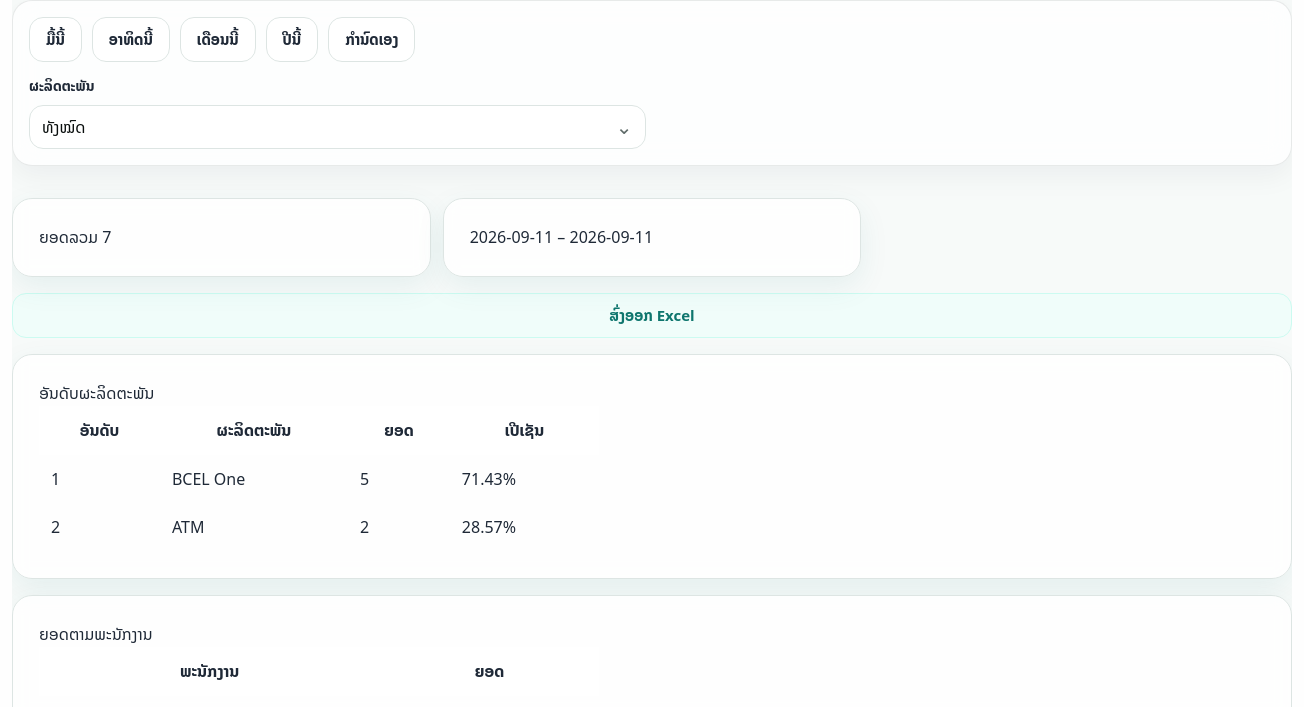
Test case: SalesReportPanel › queries preset ranges and renders Monday-Sunday labels, totals, and ranking
Click the button "ອາທິດນີ້": (131, 40) [92,17,170,62]
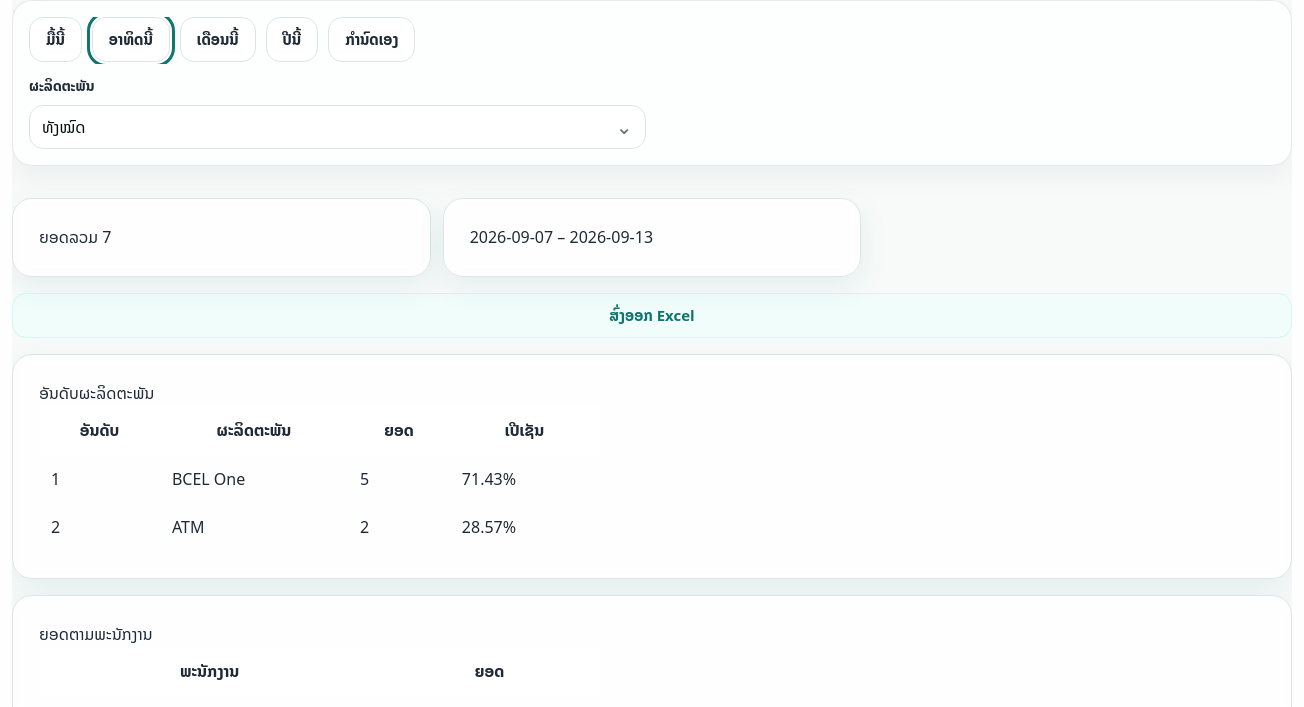
Expected: the text "ຍອດລວມ 7" is shown, [39,224,112,250]
Now the text "2026-09-07 – 2026-09-13" is shown, box [470,224,653,250]
